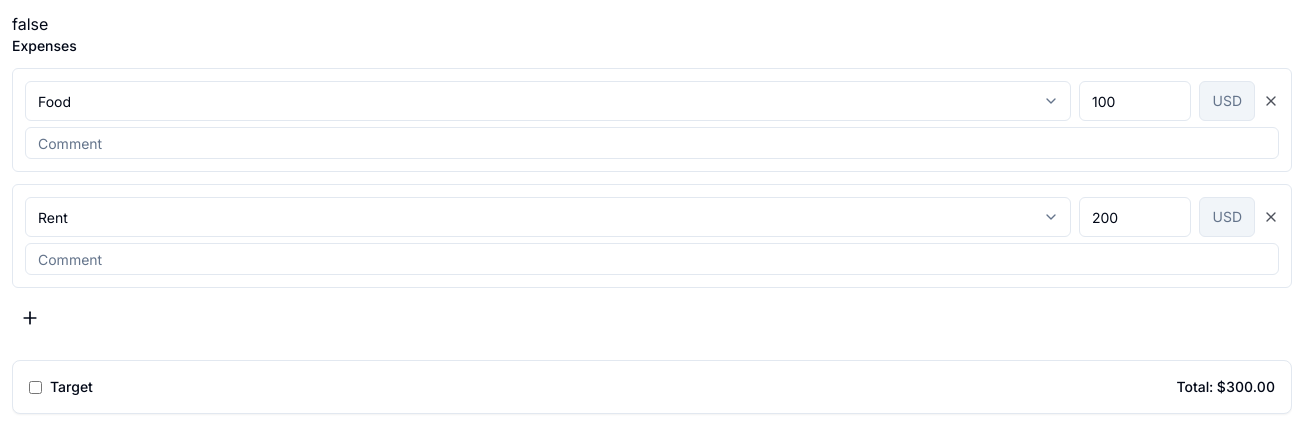
Test case: AllocationsEditor › removes a row when its Remove button is clicked
Expected: the number of dropdowns is 2, 25,81 -> 1071,121; 25,197 -> 1071,237
What coordinates should you click on to do the following:
click the 1st button named "remove"
I would click on:
 (1271, 101)
Its box is 1263,93 -> 1279,109.
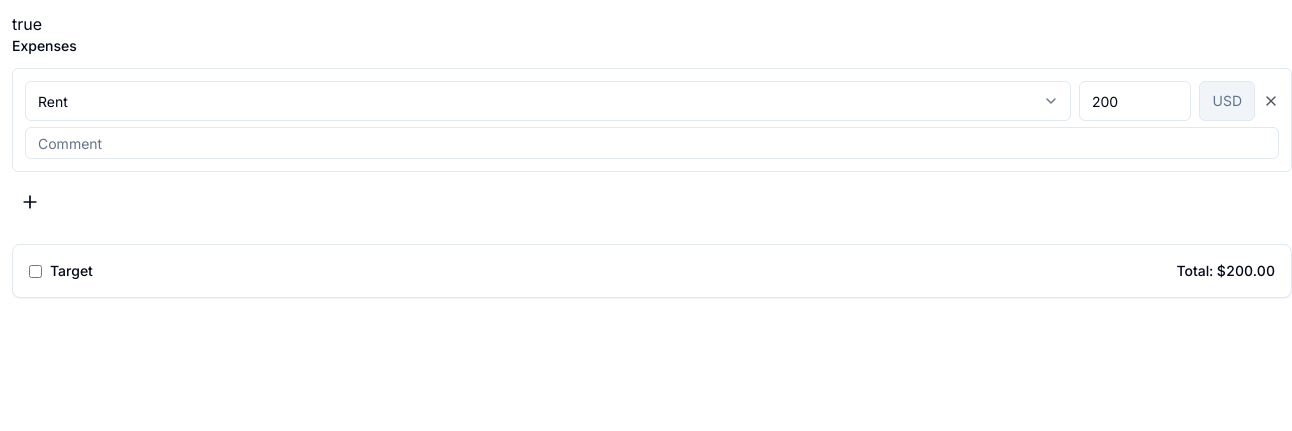
Expected: the number of dropdowns is 1, 25,81 -> 1071,121
